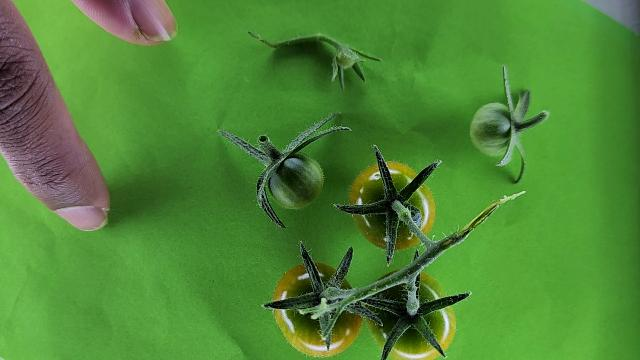Fruit Bud: (330, 42, 377, 89), (335, 47, 357, 68)
Fruit Maturation: (269, 154, 324, 209), (468, 102, 514, 157)
Fully Grown: (361, 266, 457, 359), (271, 262, 363, 357), (347, 162, 436, 251)
